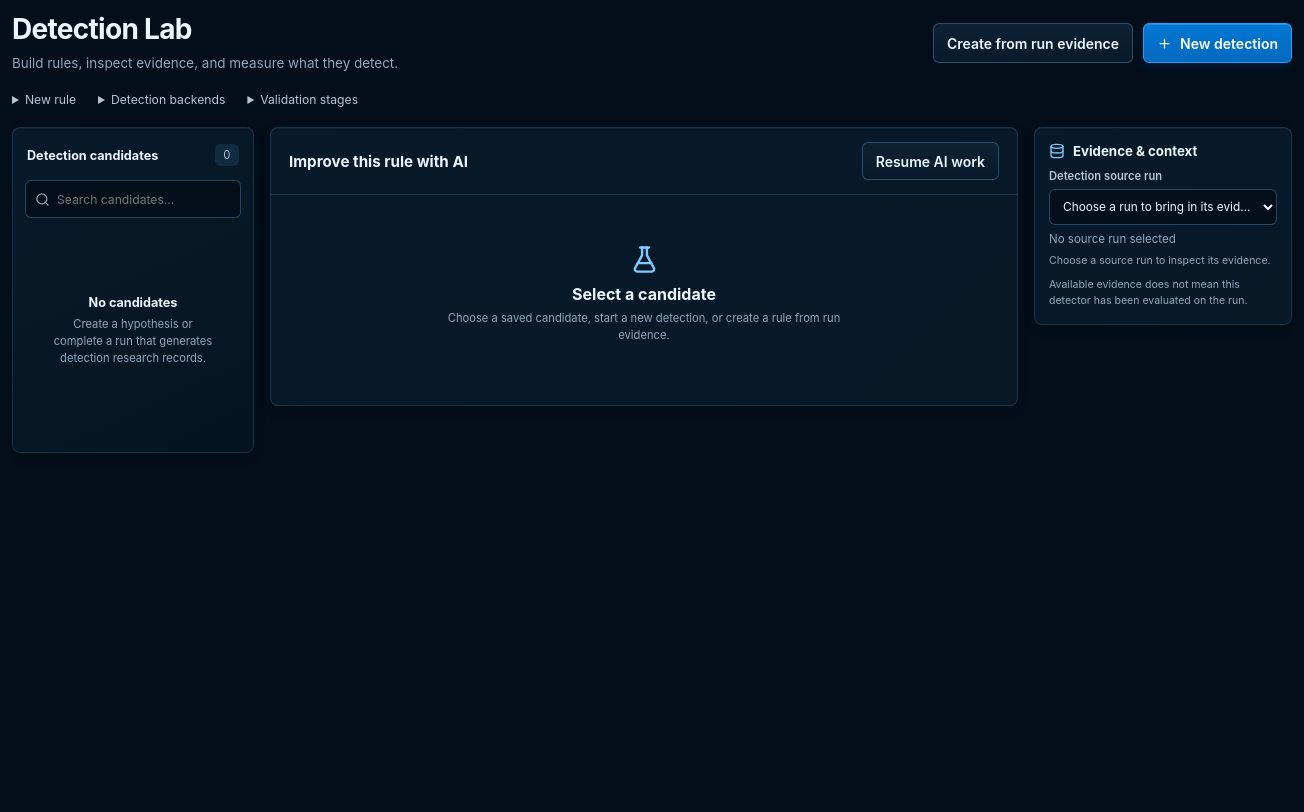
Test case: retains and exposes pending-request recovery when its original rule is unavailable
Step 1. Click the button "Resume AI work" → x=930, y=161, box [862,142,999,180]
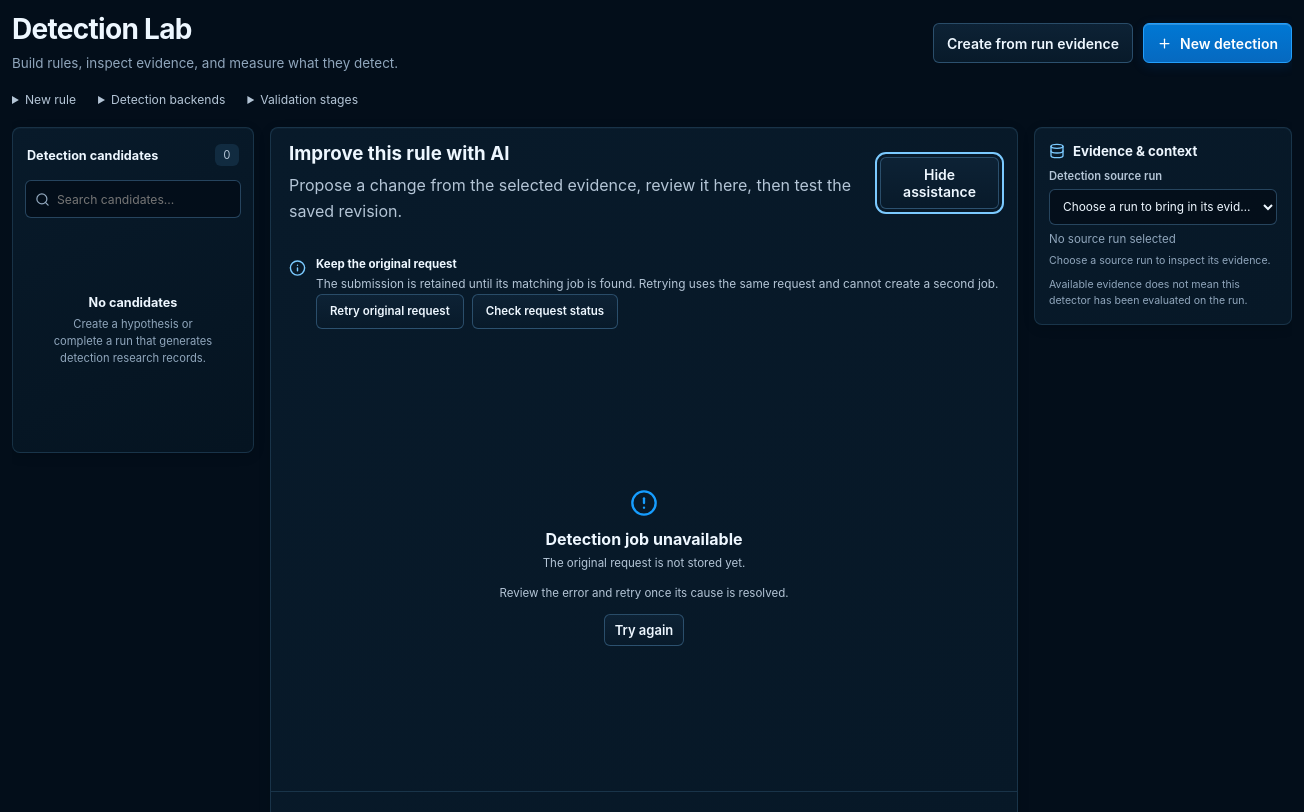
Expected: the button "Retry original request" is shown, [316,294,464,330]
